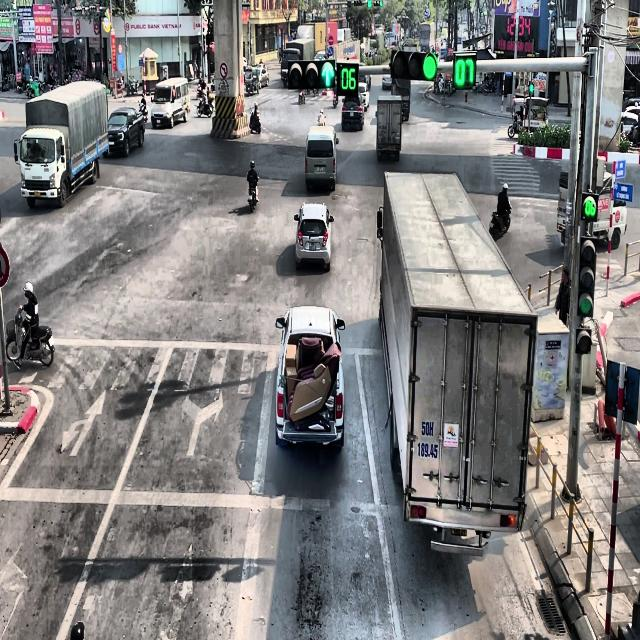CAR: (275, 305, 345, 450), (294, 202, 334, 271), (103, 106, 146, 158), (341, 93, 364, 132), (382, 74, 391, 89)
MOTORBIKE: (5, 305, 54, 369), (489, 206, 511, 241), (196, 92, 213, 117), (508, 111, 523, 138), (248, 178, 259, 213), (249, 108, 260, 134), (138, 103, 148, 123), (298, 90, 305, 104), (333, 92, 338, 108)
TRAFFIC_LIGHT: (577, 236, 596, 318), (390, 48, 438, 80), (287, 58, 336, 89), (453, 51, 477, 88), (337, 62, 359, 94), (581, 192, 598, 222), (366, 0, 383, 8), (529, 81, 534, 96)
TRUCK: (377, 170, 538, 554), (13, 79, 109, 208), (556, 162, 627, 250)
